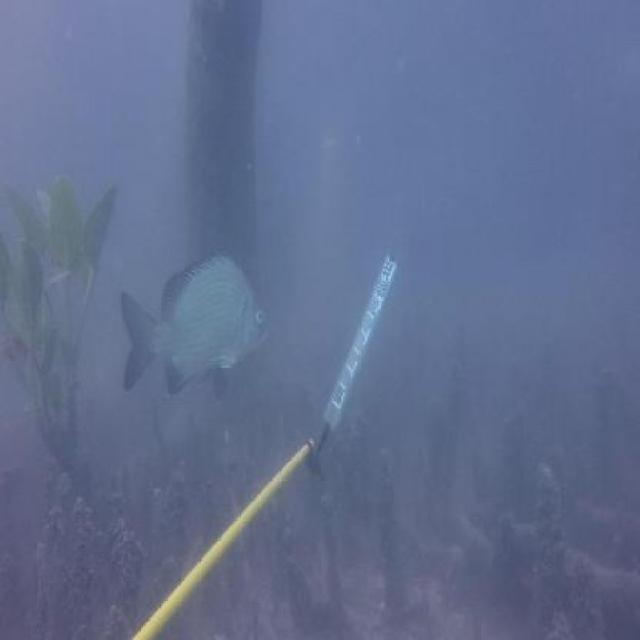acanthopagrus_palmaris: (115, 250, 271, 405)
